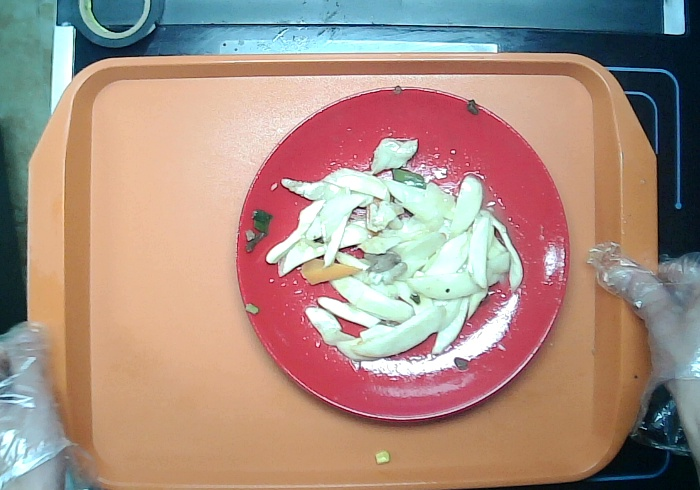HZYJPL-Hong_Se_Yuan_Pan: (230, 77, 582, 435)
